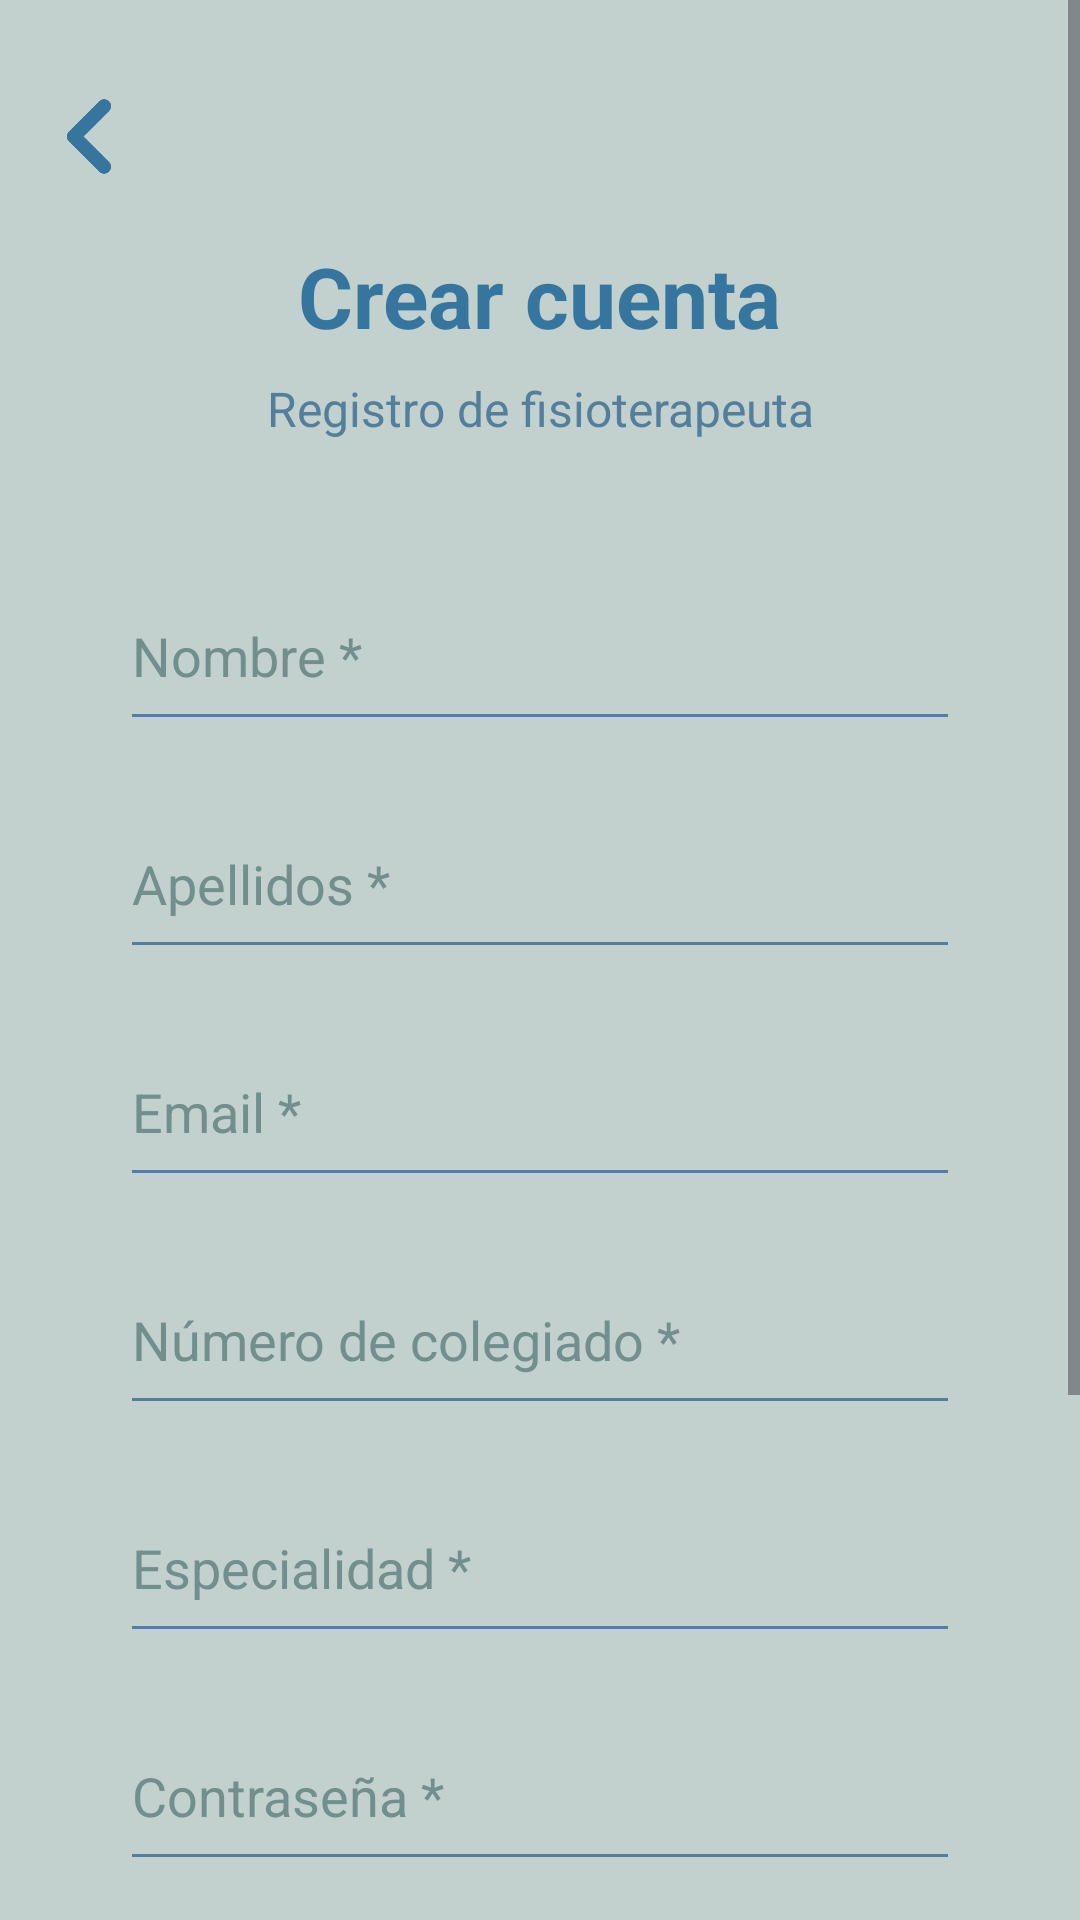

Locate icon controls on the screen. Image size 1080x1920, boxes as BBox(x1, y1, x2, y2).
Volver atrás: BBox(67, 99, 111, 174)
